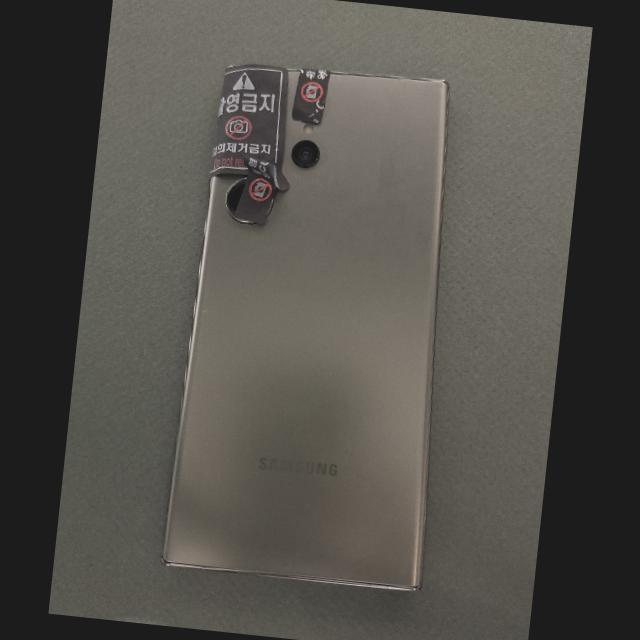phone: (158, 64, 450, 592)
sticker: (208, 64, 286, 182), (234, 155, 275, 225), (291, 69, 331, 124), (226, 177, 245, 214), (275, 167, 289, 189)
